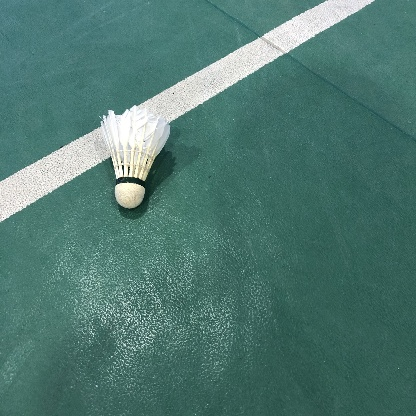ball_single: (100, 105, 170, 209)
